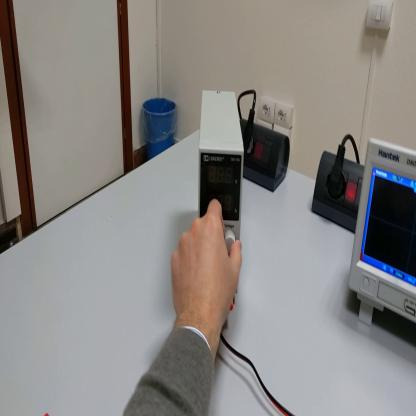hand: (171, 201, 242, 333)
oscilloscope: (349, 127, 416, 329)
power supply: (195, 87, 245, 295)
socket: (312, 144, 366, 237), (241, 117, 291, 197)
